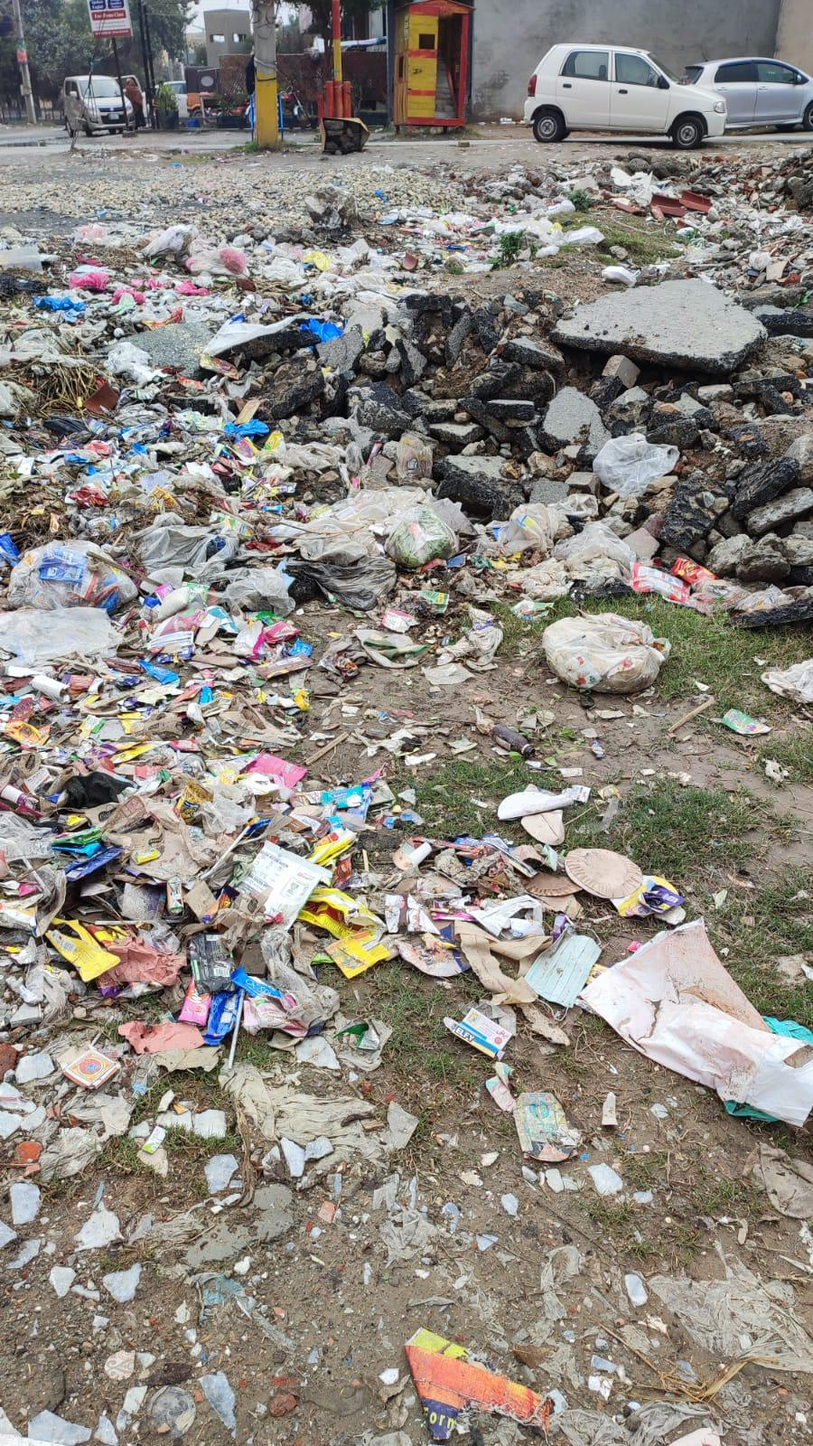garbage: (7, 208, 813, 637), (52, 666, 623, 1049)
